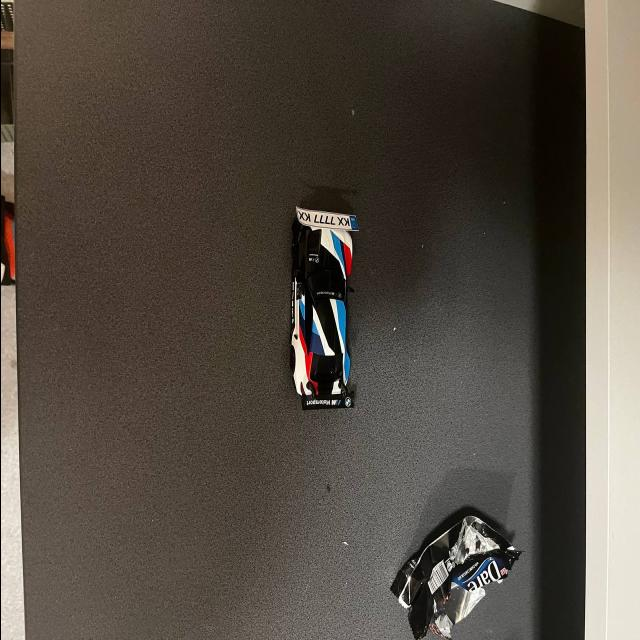cars: (280, 197, 370, 420)
